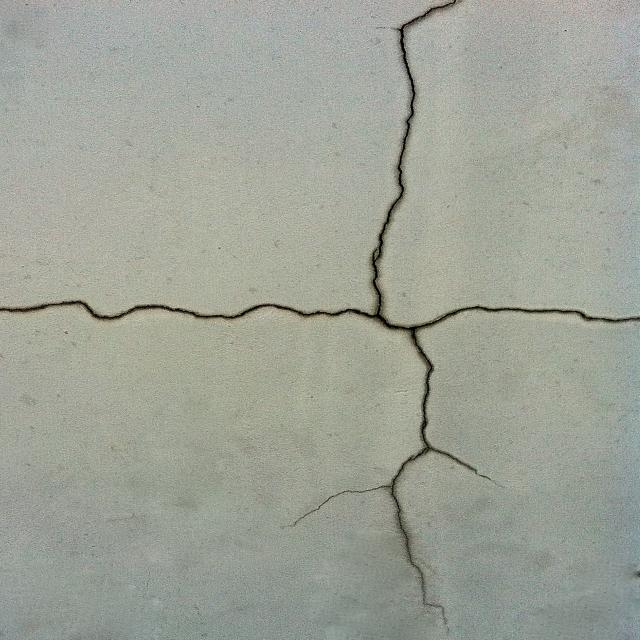Wall_Cracks: (5, 3, 640, 623)
